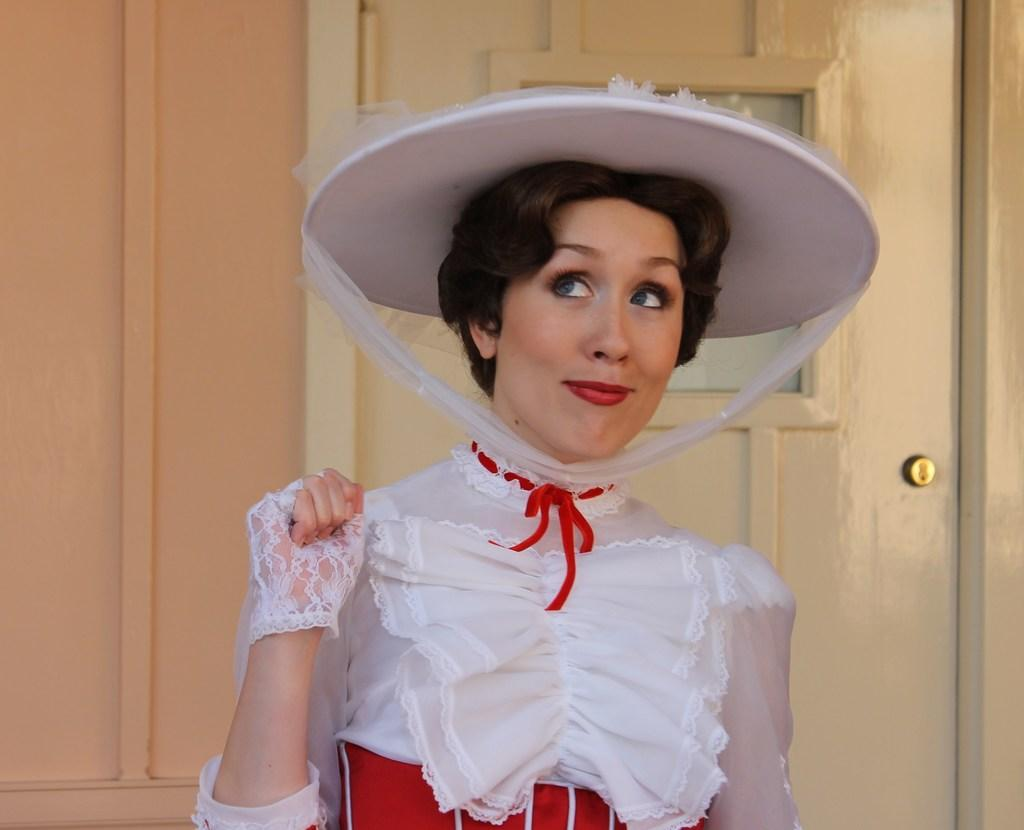Hat: (296, 75, 882, 484)
